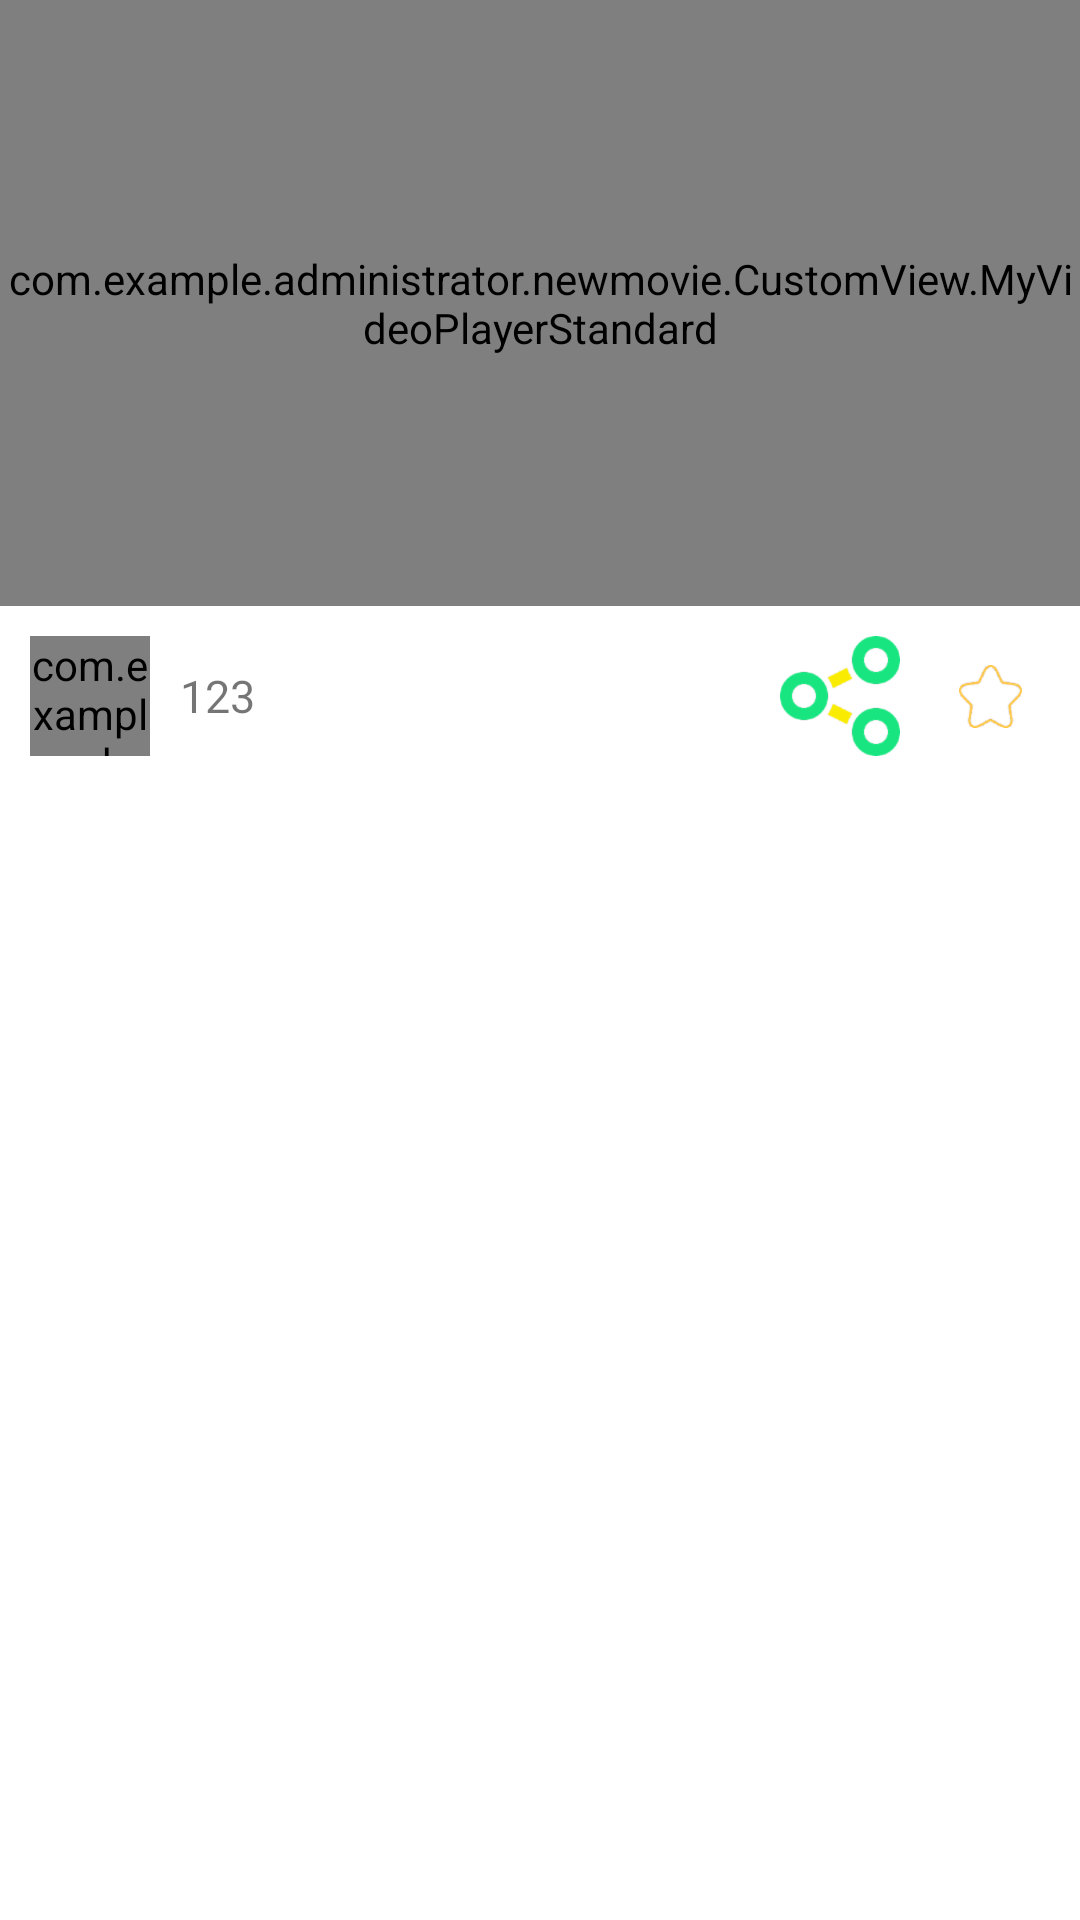

Where icons sit on this 1080w x 1920h app screen, as region(x1, y1, x2, y2):
collect: region(959, 665, 1022, 728)
share: region(780, 636, 900, 756)
